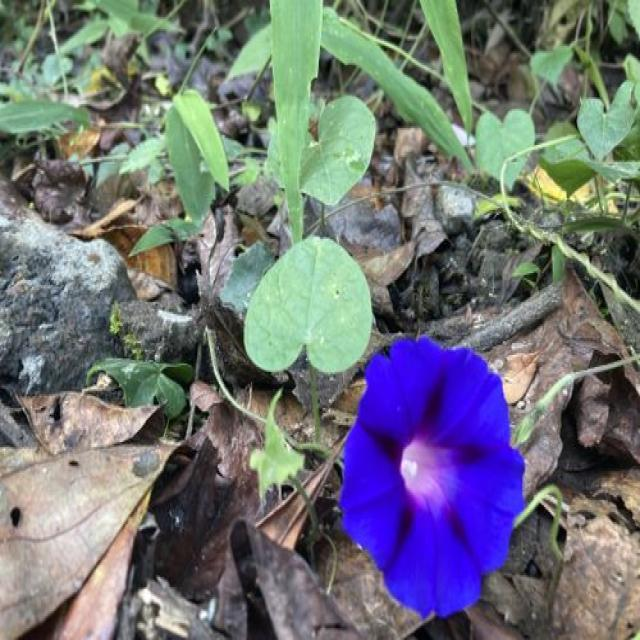ipomoea: (334, 331, 529, 625)
